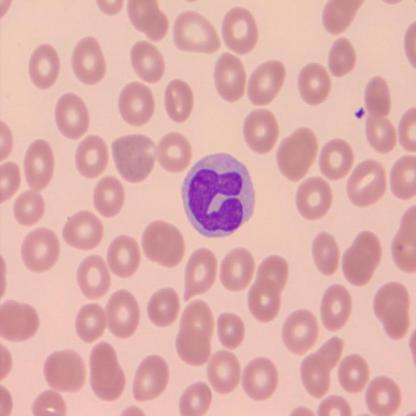Monocyte: (179, 149, 257, 239)
